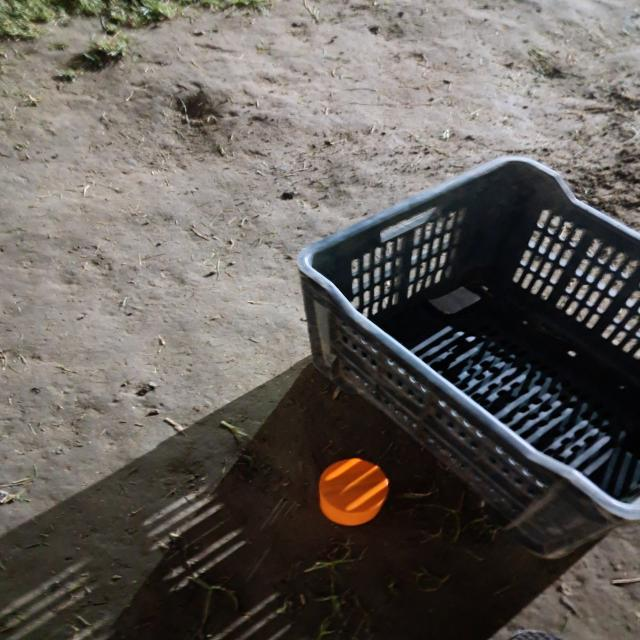Cylinder: (316, 456, 389, 526)
